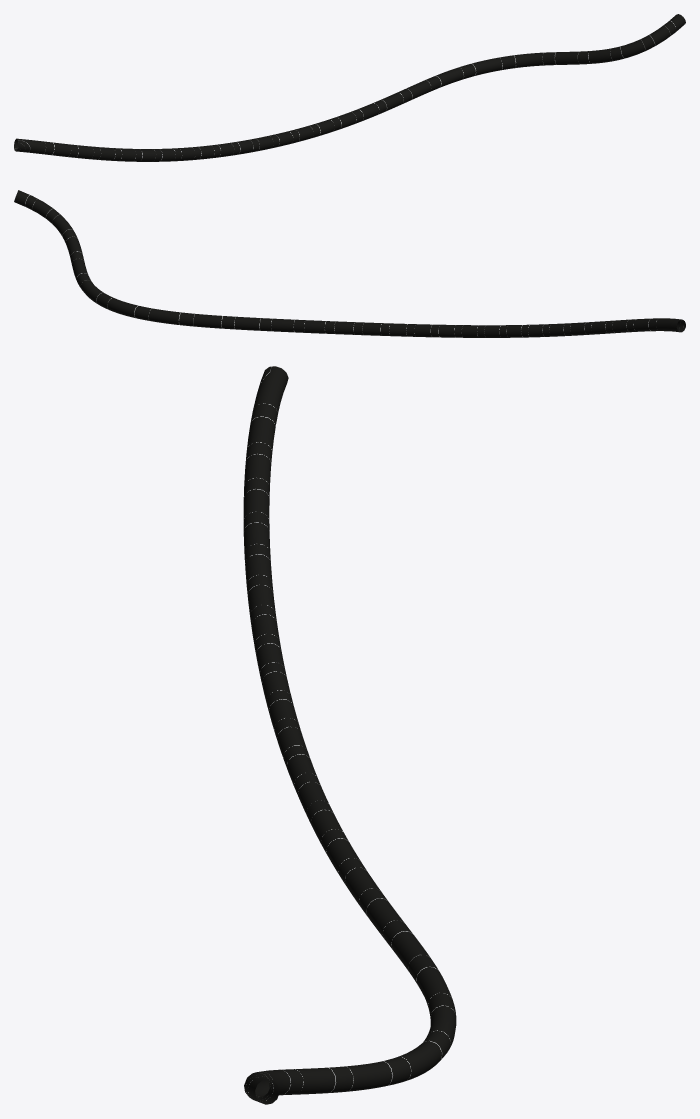
File: cable_l_3.glb
3 views of the same model, one above another, from view 1: azimuth 30°, elevation 25°; view 2: azimuth 150°, elevation 25°; view 3: azimuth 270°, elevation 25° (orthographic). The views are drawn at different scales.
Parts seen in each view (by area): view 1: NurbsPath.005; view 2: NurbsPath.005; view 3: NurbsPath.005.
Boxes of the visible parts, x1,y1,x2,y2 form: NurbsPath.005: (14,14,685,161); NurbsPath.005: (14,190,685,337); NurbsPath.005: (243,366,456,1104).
Size of the model in its own units: 7.53 by 0.9568 by 1.04.
1 material, 1 textured.
